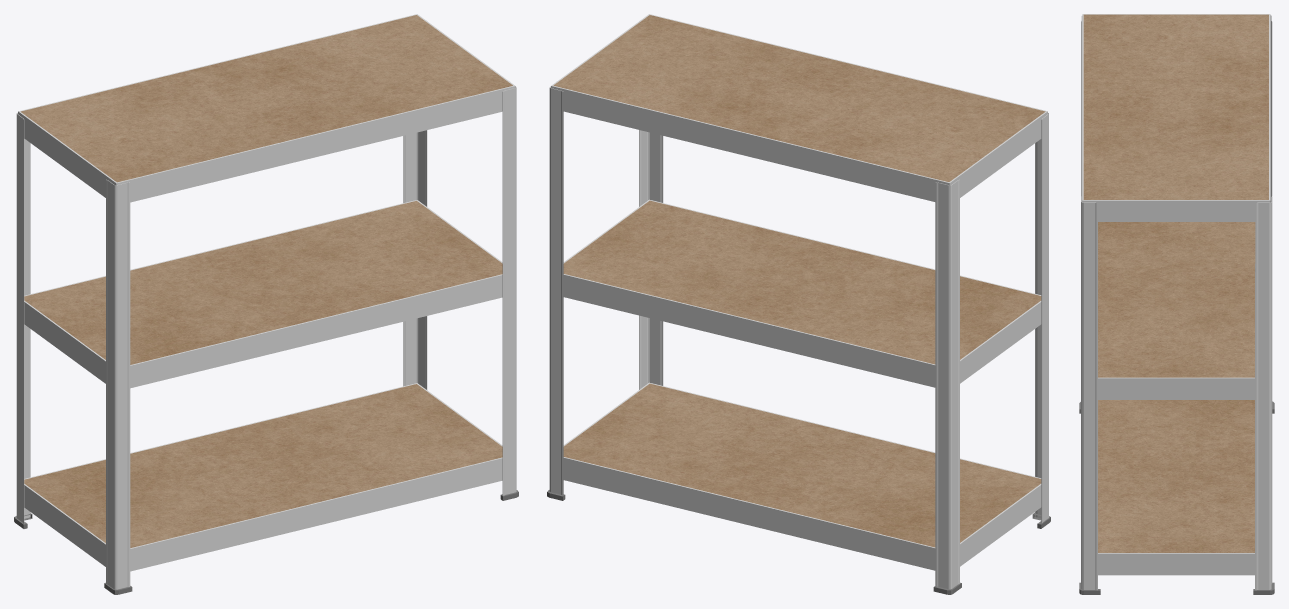
The model's file is Rack_a.fbx.
3 renders of one model, left to right at view 1: azimuth 30°, elevation 25°; view 2: azimuth 150°, elevation 25°; view 3: azimuth 270°, elevation 25°, orthographic. The views are drawn at different scales.
Parts seen in each view (by area): view 1: Cube.002; view 2: Cube.002; view 3: Cube.002, Cube.
Part boxes in pixels (bbox=[...]): Cube.002: bbox=[16, 14, 516, 589]; Cube.002: bbox=[549, 14, 1048, 589]; Cube.002: bbox=[1081, 14, 1272, 590]; Cube: bbox=[1079, 401, 1274, 594].
Bounding box in the file's own units: 94.19 × 91.14 × 41.
